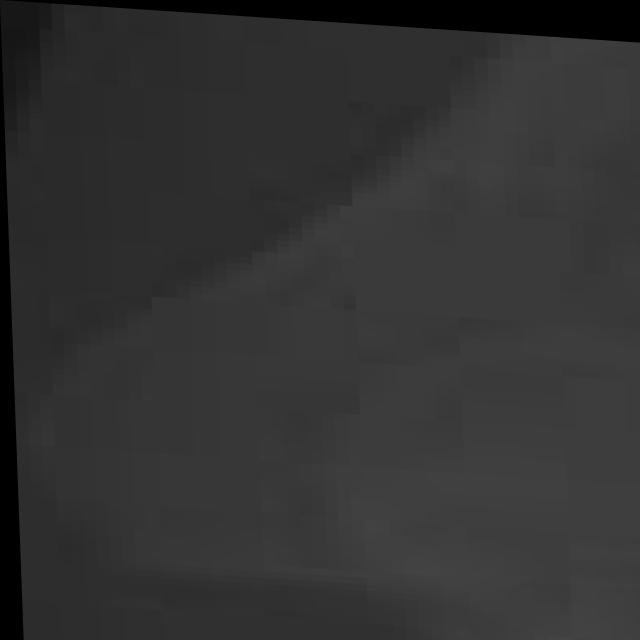fracture: (27, 34, 640, 640)
